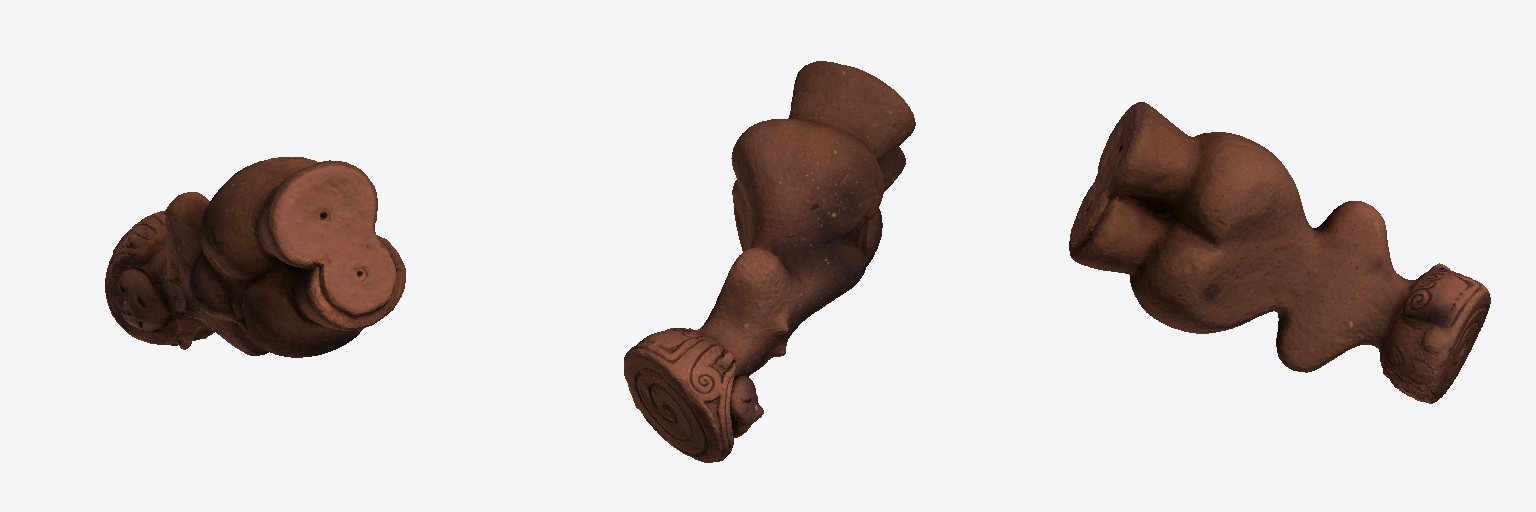
3 renders of one model, left to right at view 1: azimuth 30°, elevation 25°; view 2: azimuth 150°, elevation 25°; view 3: azimuth 270°, elevation 25°, orthographic.
Size of the model in its own units: 1.43 by 2.49 by 3.34.
Materials: 1 (1 with a texture image).